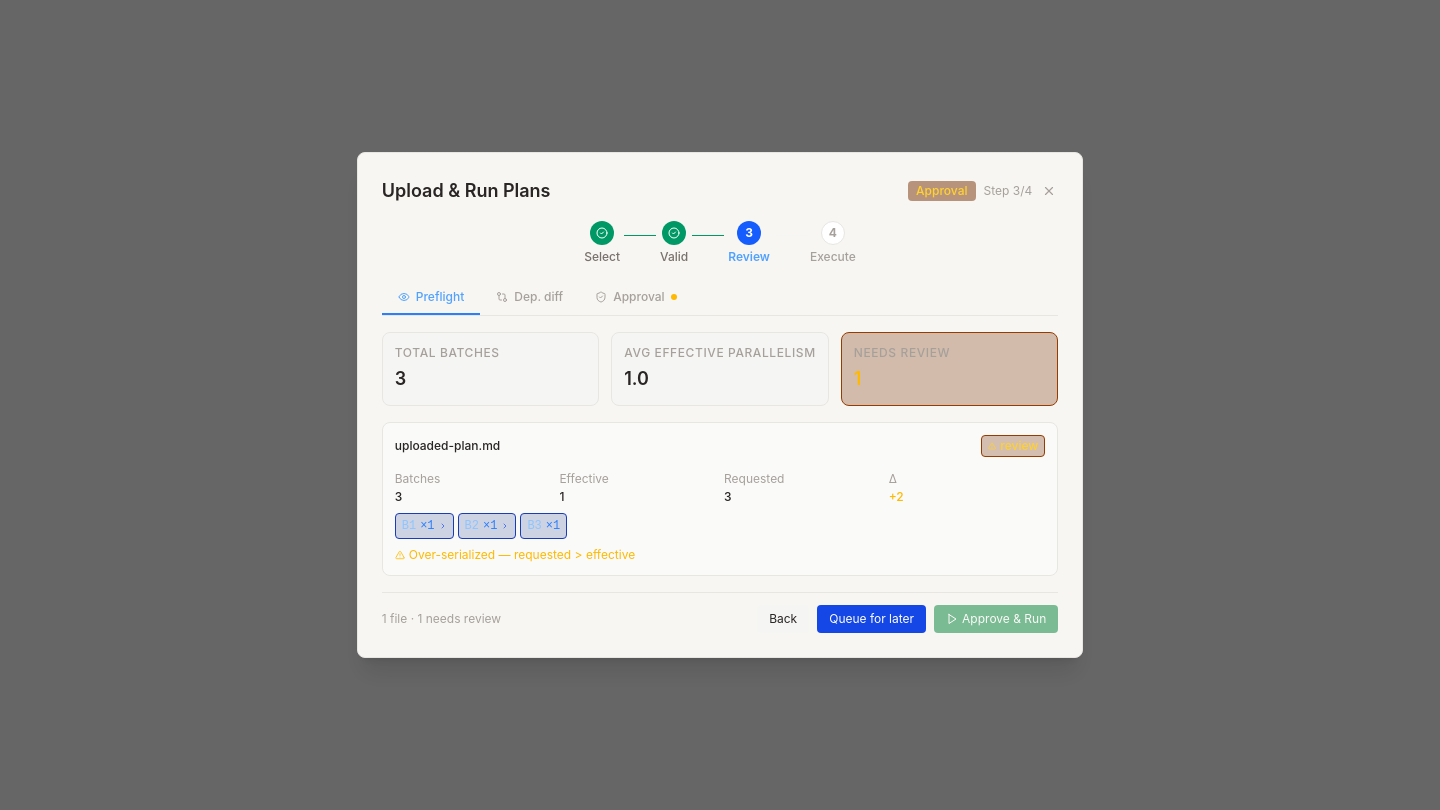
AC 2: Run is disabled until required review is approved › shows Approval tab when requiresApproval is true
Note: Click the tab button (not the badge)
Click the button "Approval" at (636, 298), box [579,281,693,315]
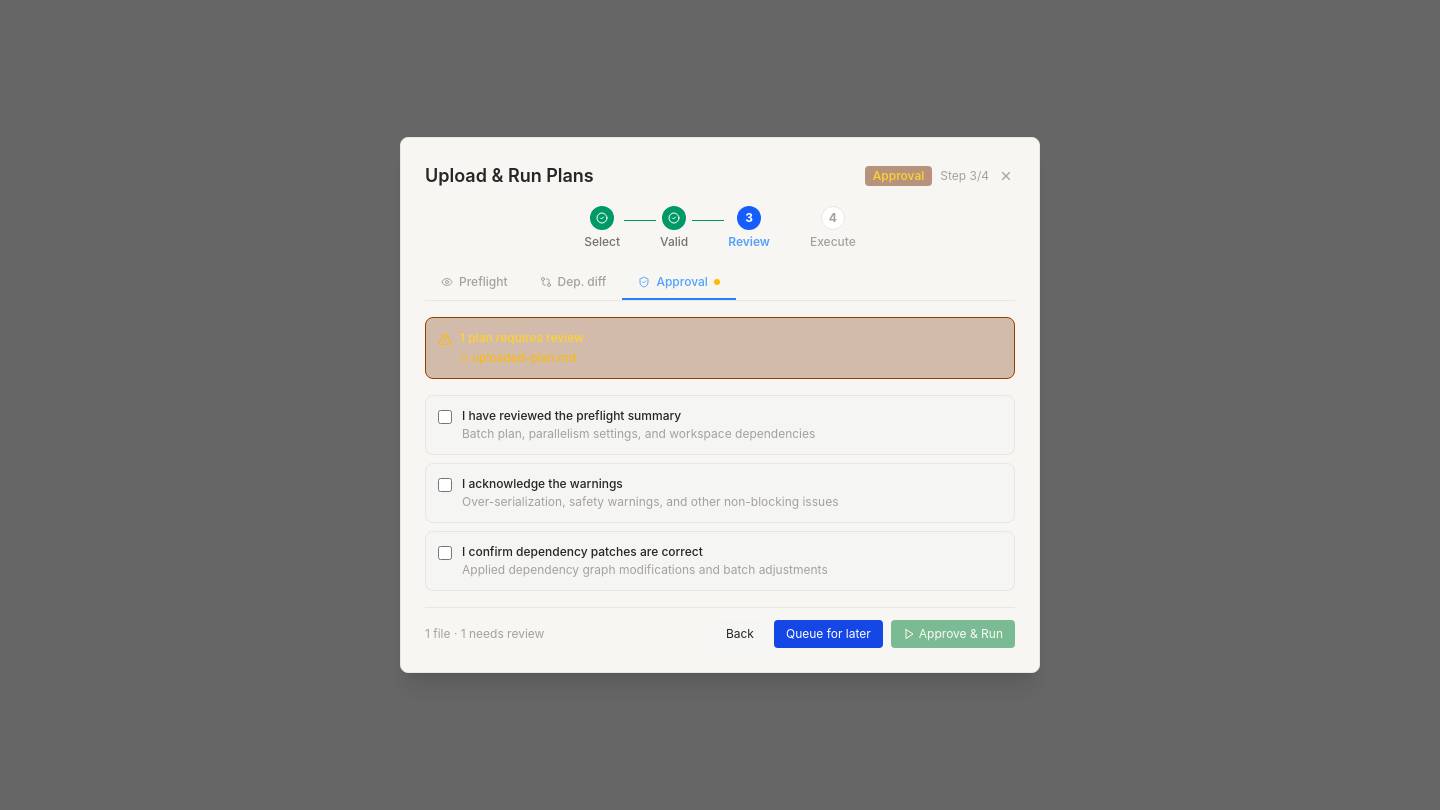
Expected: the text "I have reviewed the preflight summary" is shown, [462,408,681,423]
Expected: the text "I acknowledge the warnings" is shown, [462,476,623,491]
Expected: the text "I confirm dependency patches are correct" is shown, [462,544,703,559]
